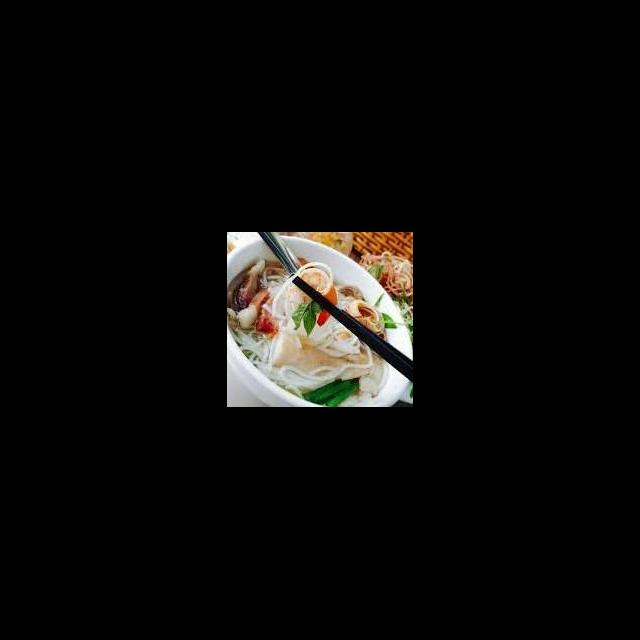bun: (228, 324, 344, 394)
ca: (268, 326, 381, 380)
thit heo quay: (230, 256, 267, 310), (235, 284, 274, 332)
tom: (293, 266, 340, 330)
